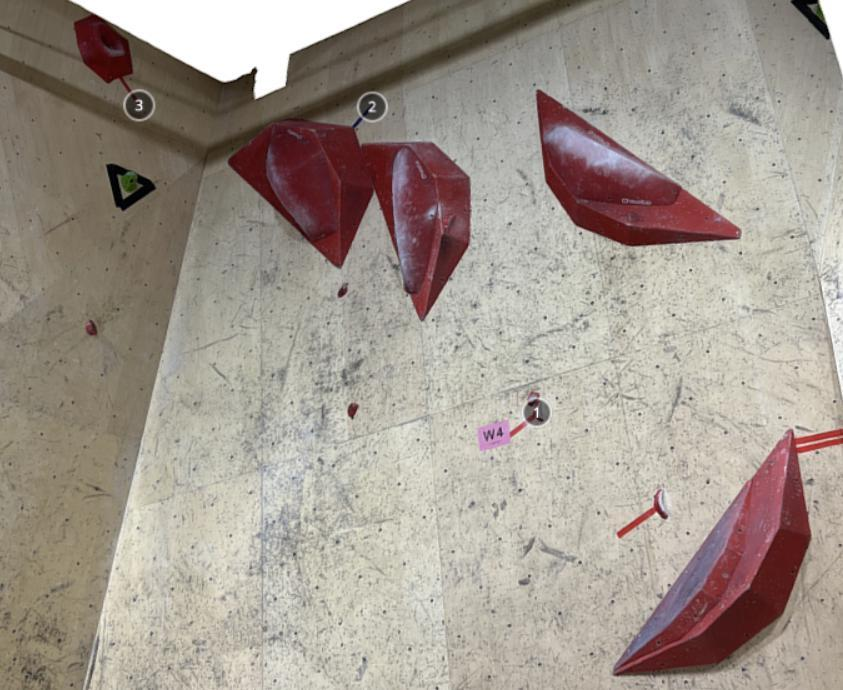hold: (614, 479, 752, 671), (547, 126, 681, 205), (266, 125, 338, 243), (392, 147, 438, 295), (73, 15, 134, 84), (106, 163, 157, 213), (791, 0, 831, 40), (653, 489, 668, 520), (442, 213, 456, 232), (527, 391, 541, 407), (532, 404, 544, 422), (85, 320, 98, 336), (347, 403, 359, 420), (337, 284, 348, 298)
volume: (613, 429, 812, 676), (536, 88, 742, 247), (228, 118, 374, 269), (362, 142, 470, 322)
